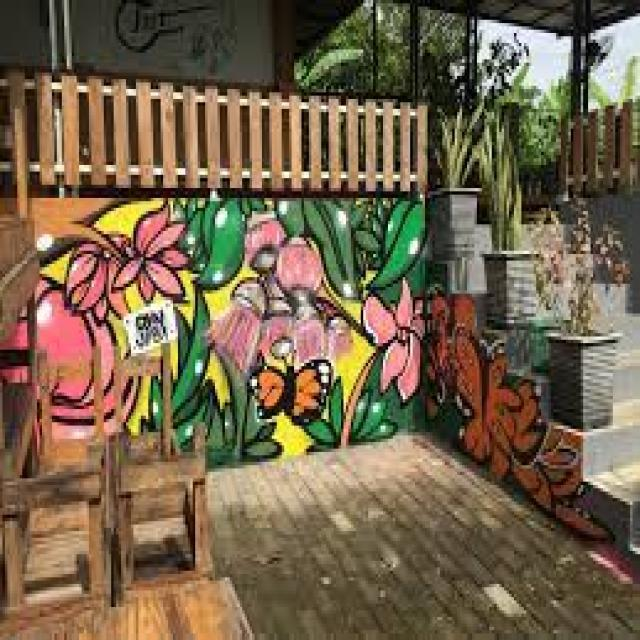-: (32, 203, 420, 474), (426, 300, 606, 538)
